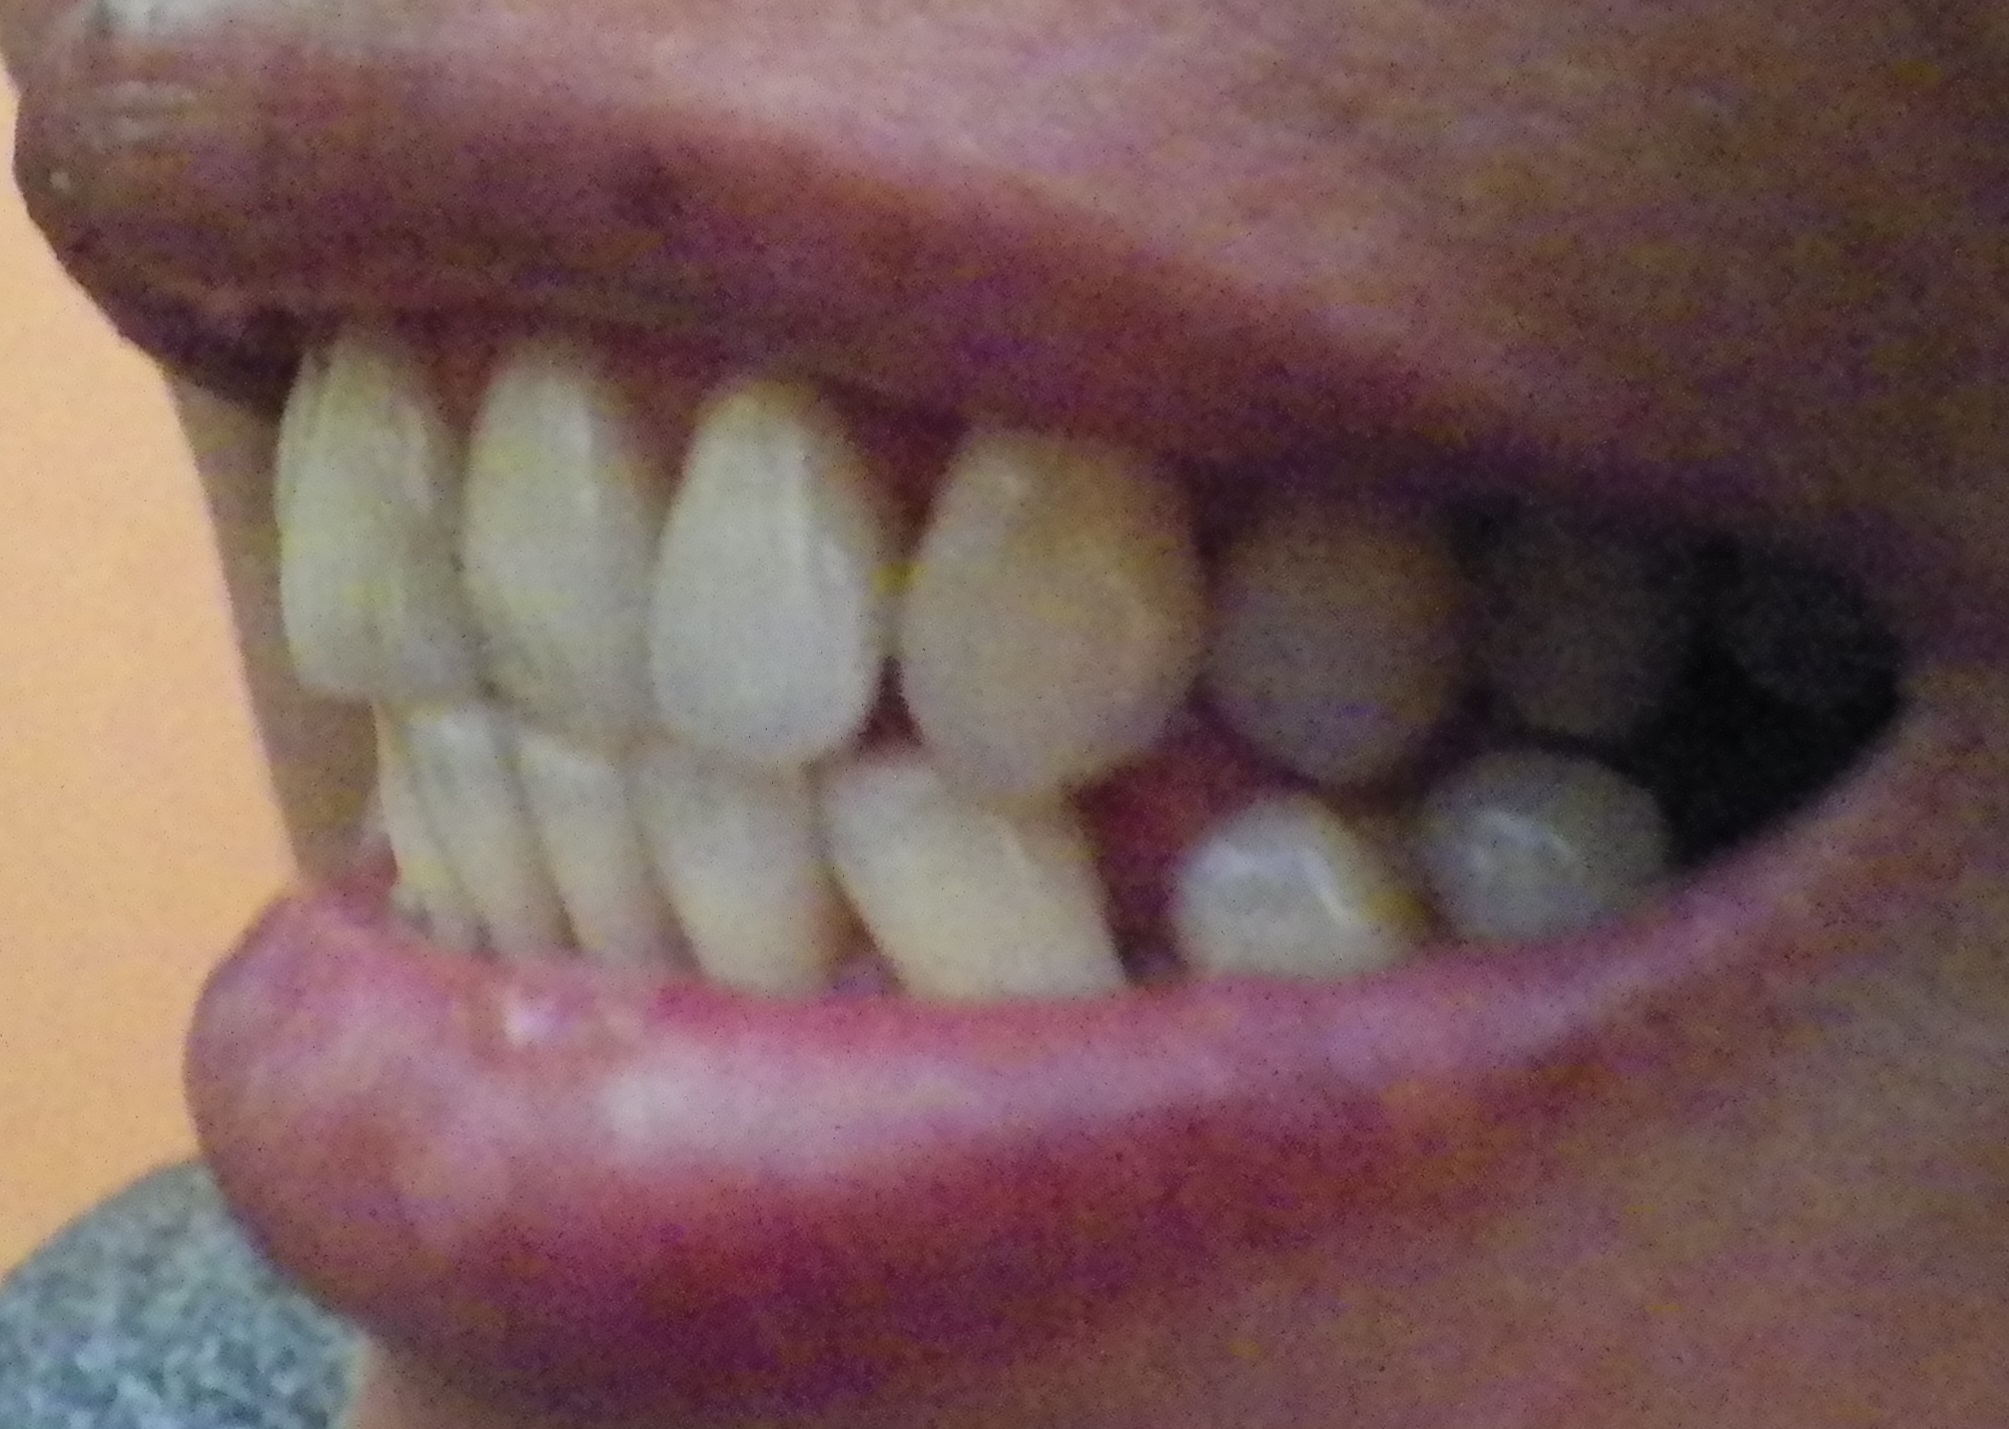boca: (251, 333, 1769, 956)
